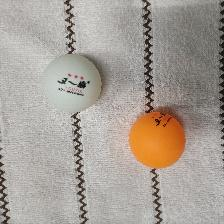WhiteBall: (42, 54, 102, 112)
YellowBall: (129, 112, 185, 168)
